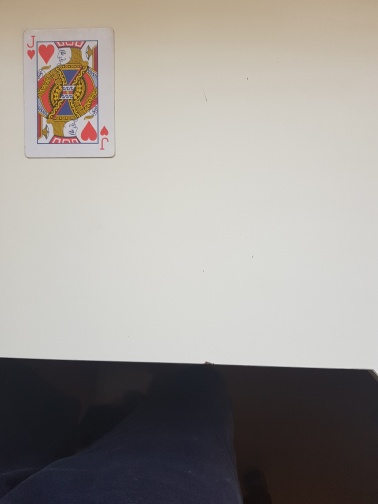jack: (21, 27, 116, 159)
